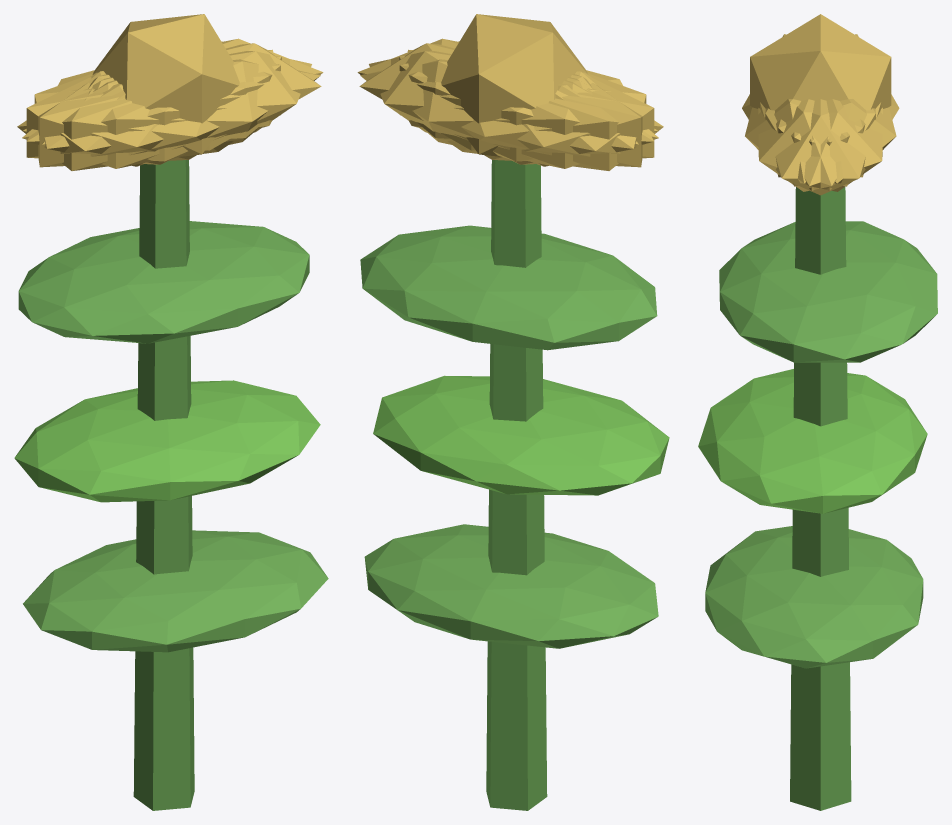
The model's file is carissa-carandas.glb.
3 renders of one model, left to right at view 1: azimuth 30°, elevation 25°; view 2: azimuth 150°, elevation 25°; view 3: azimuth 270°, elevation 25°, orthographic.
Visible parts, largest first — view 1: leaf1, leaf0, leaf2, stem, center, petal1, petal6, petal2, petal5, petal7, petal0, petal4 (+2 smaller); view 2: leaf2, leaf1, leaf0, stem, center, petal8, petal3, petal7, petal4, petal2, petal0, petal5 (+2 smaller); view 3: leaf2, leaf1, leaf0, stem, center, petal0, petal5, petal4, petal8, petal1.
Part boxes in pixels (x1,y1,x2,y2): leaf1: (14, 380, 320, 502); leaf0: (23, 530, 328, 652); leaf2: (18, 221, 309, 343); stem: (133, 160, 194, 810); center: (92, 14, 239, 156); petal1: (22, 59, 320, 168); petal6: (17, 72, 233, 170); petal2: (38, 49, 273, 167); petal5: (42, 51, 311, 161); petal7: (26, 56, 281, 164); petal0: (92, 43, 321, 150); petal4: (23, 38, 323, 141); leaf2: (360, 225, 657, 350); leaf1: (373, 375, 669, 495); leaf0: (364, 524, 658, 648); stem: (486, 160, 547, 810); center: (441, 14, 588, 156); petal8: (360, 59, 658, 168); petal3: (447, 72, 663, 170); petal7: (407, 49, 642, 167); petal4: (369, 51, 638, 161); petal2: (399, 56, 654, 164); petal0: (359, 43, 588, 150); petal5: (357, 38, 657, 141); leaf2: (719, 221, 937, 362); leaf1: (698, 369, 927, 513); leaf0: (705, 526, 923, 668); stem: (790, 187, 851, 810); center: (750, 14, 891, 110); petal0: (760, 99, 881, 195); petal5: (758, 99, 875, 191); petal4: (765, 99, 882, 191); petal8: (776, 99, 896, 183); petal1: (745, 98, 865, 183).
Bounding box in the file's own units: 0.1452 × 0.3659 × 0.104.
